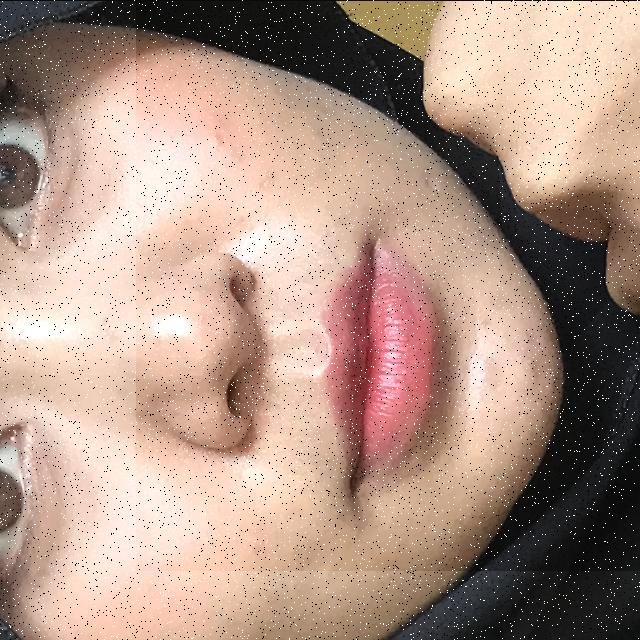telpon: (136, 0, 640, 570)
